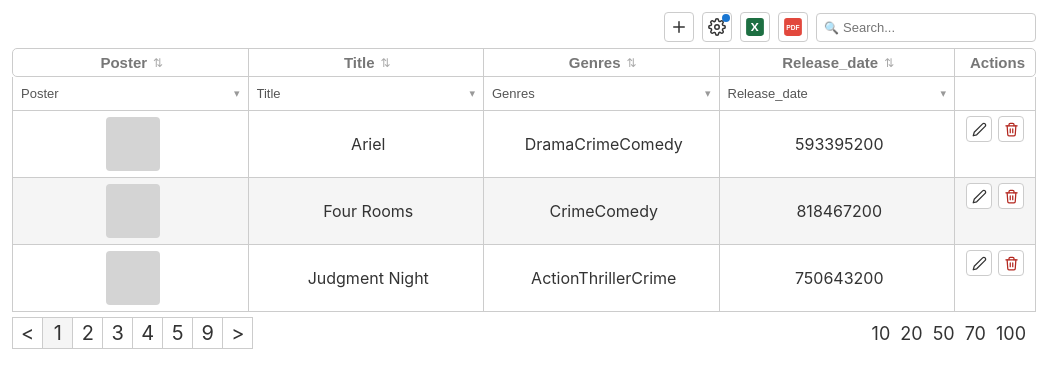
Test: rs-data-grid (React) — pager edge cases › clicking a page number jumps straight to that page
Step 1. Click the text "2" → (88,333), box [73, 318, 103, 348]
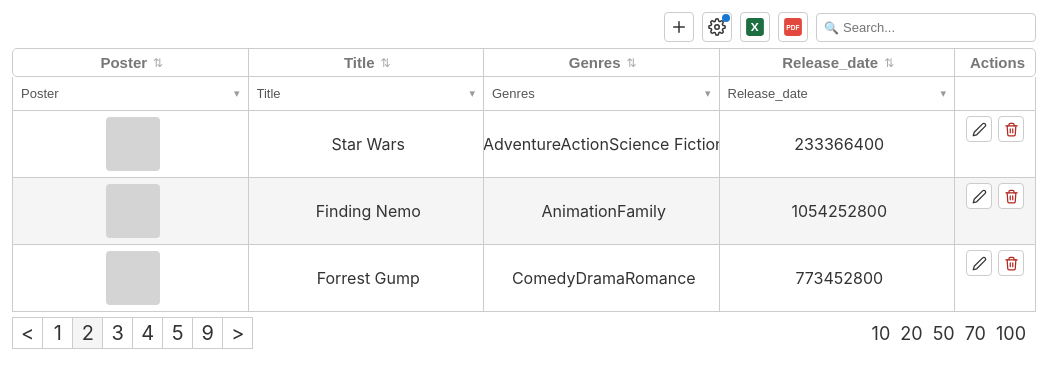
Check: the text "Ariel" is gone
